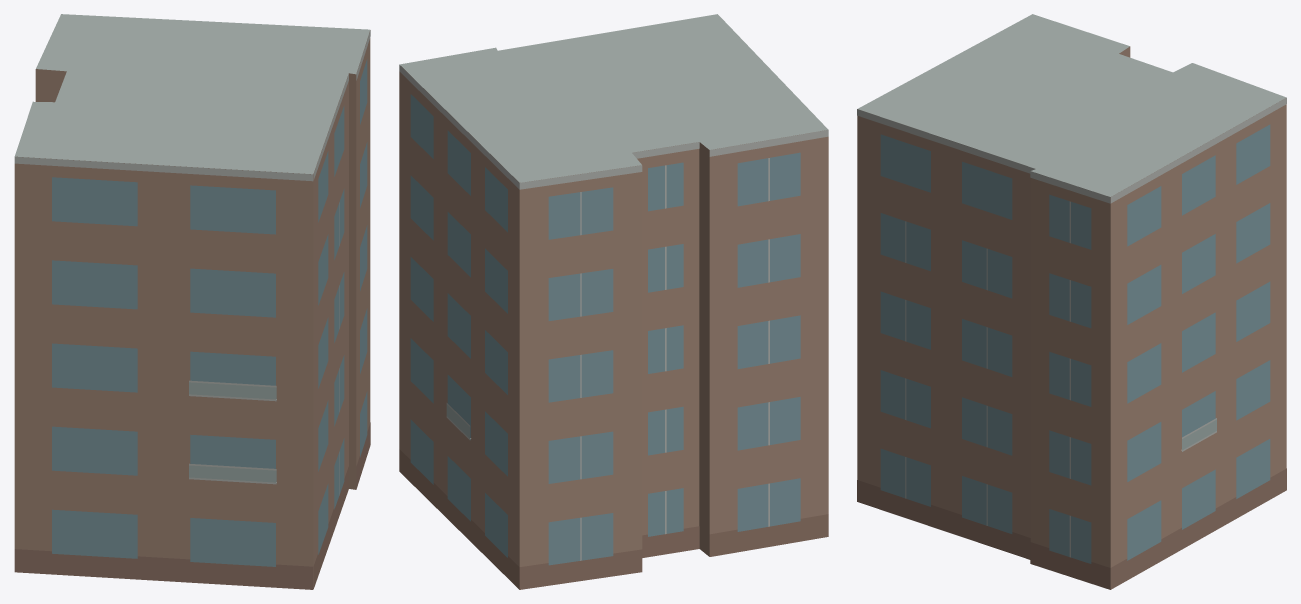
File: survey-upis-32968469.glb
The picture shows the model from 3 angles, left to right: view 1: azimuth 30°, elevation 25°; view 2: azimuth 150°, elevation 25°; view 3: azimuth 270°, elevation 25°; orthographic projection. The views are drawn at different scales.
Visible parts, largest first — view 1: survey-upis-32968469.tmp; view 2: survey-upis-32968469.tmp; view 3: survey-upis-32968469.tmp.
Part boxes in pixels (x1,y1,x2,y2): survey-upis-32968469.tmp: (14, 14, 370, 589); survey-upis-32968469.tmp: (399, 14, 828, 589); survey-upis-32968469.tmp: (857, 14, 1286, 589).
Bounding box in the file's own units: 14.5 × 14.5 × 14.38.
